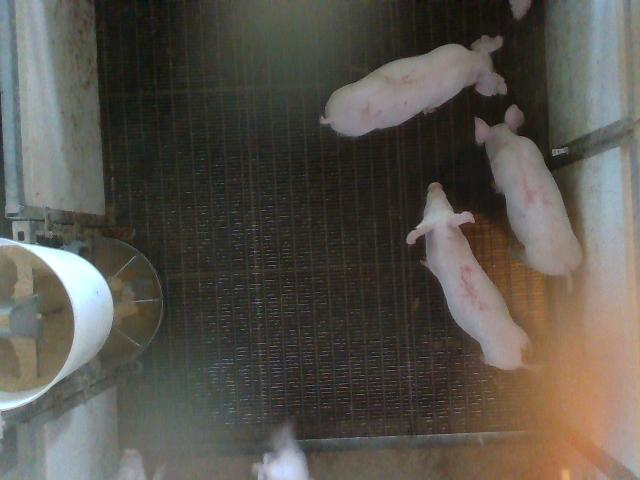pig-4: (476, 105, 582, 289)
pig-5: (406, 182, 530, 370)
